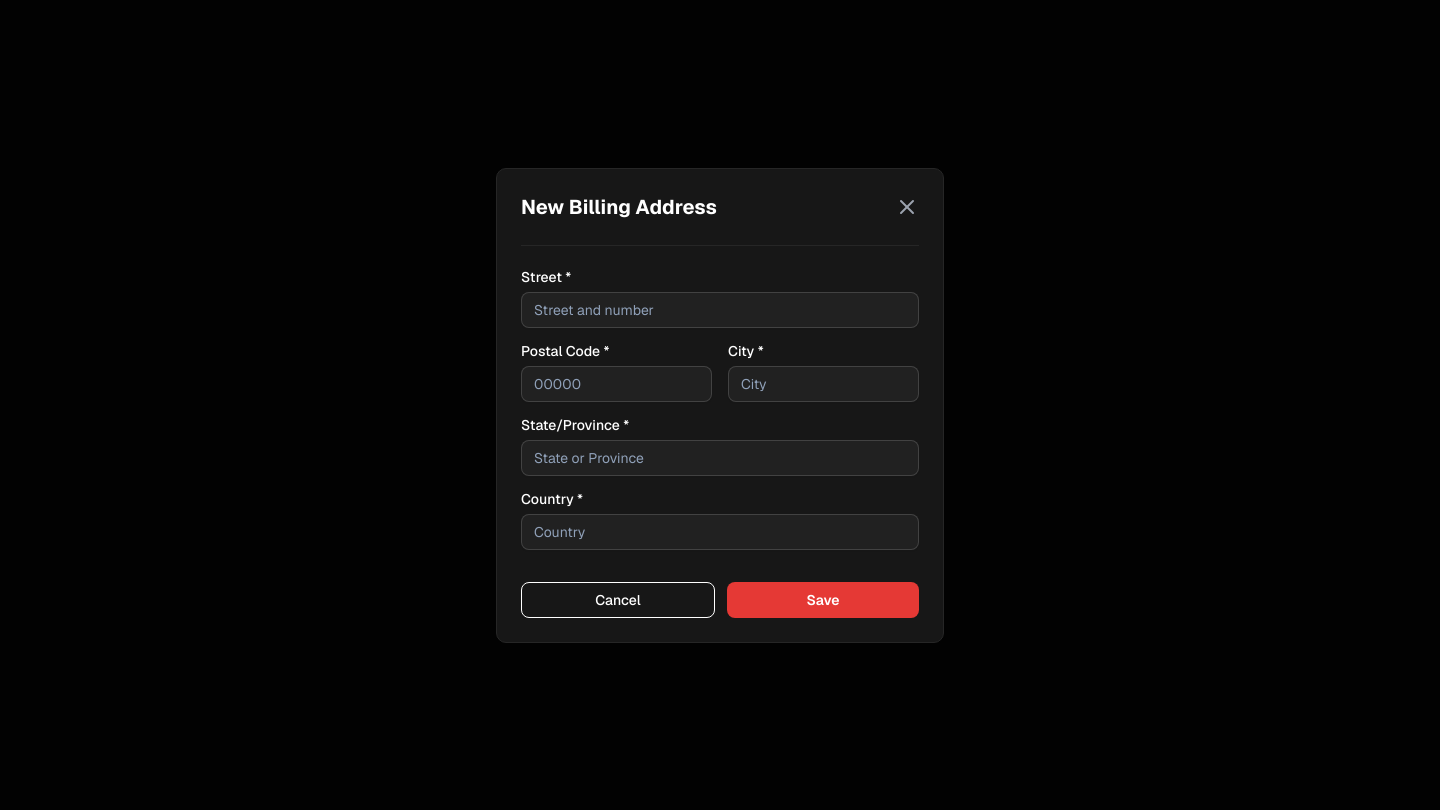
Test: AddBillingAddressModal › form submission - create mode › displays error message on submission failure
This screenshot has width=1440, height=810.
Type "Test Street" into the field labelled "Street *" at (720, 310), box [521,292,919,328]
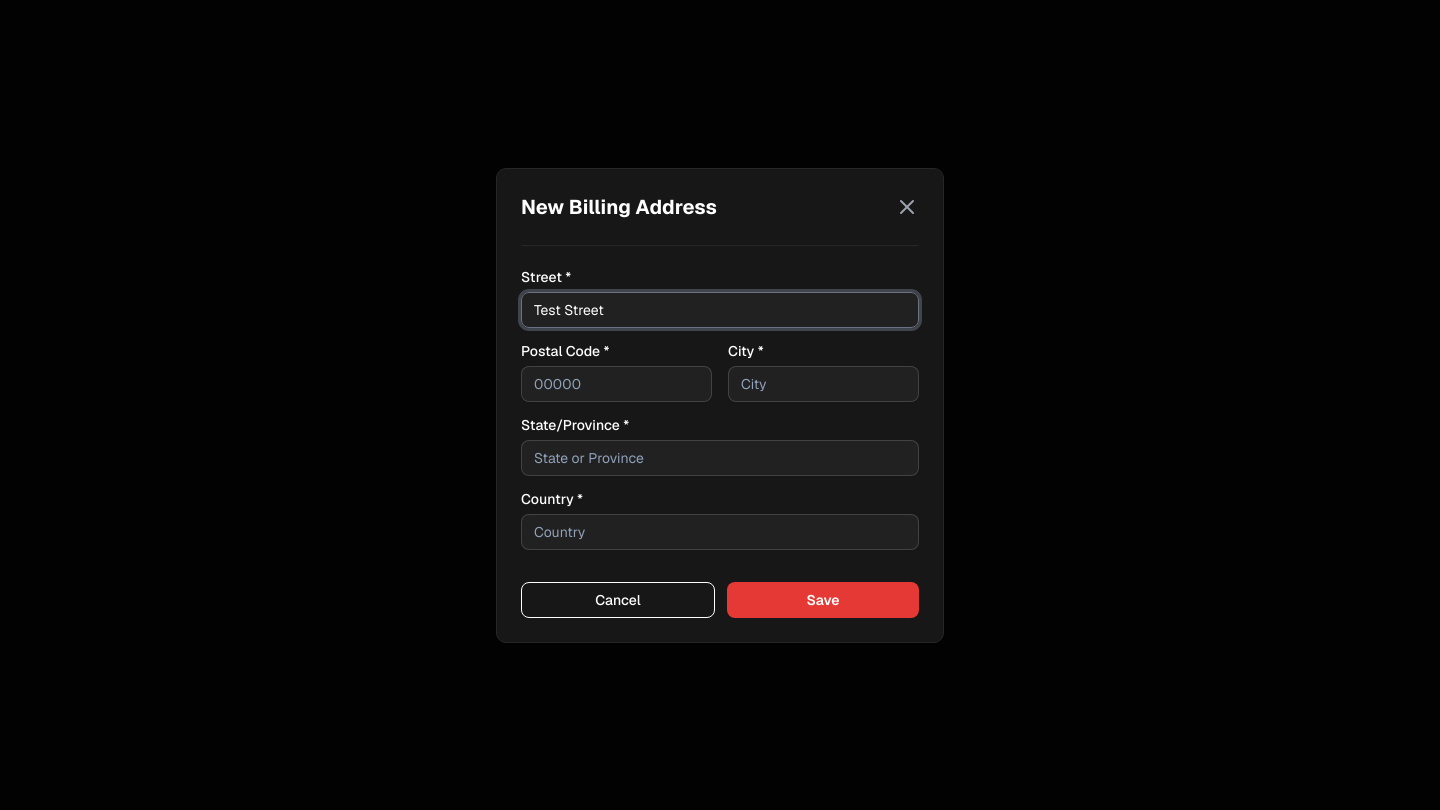
Type "Test City" into the field labelled "City *" at (824, 384), box [728,366,919,402]
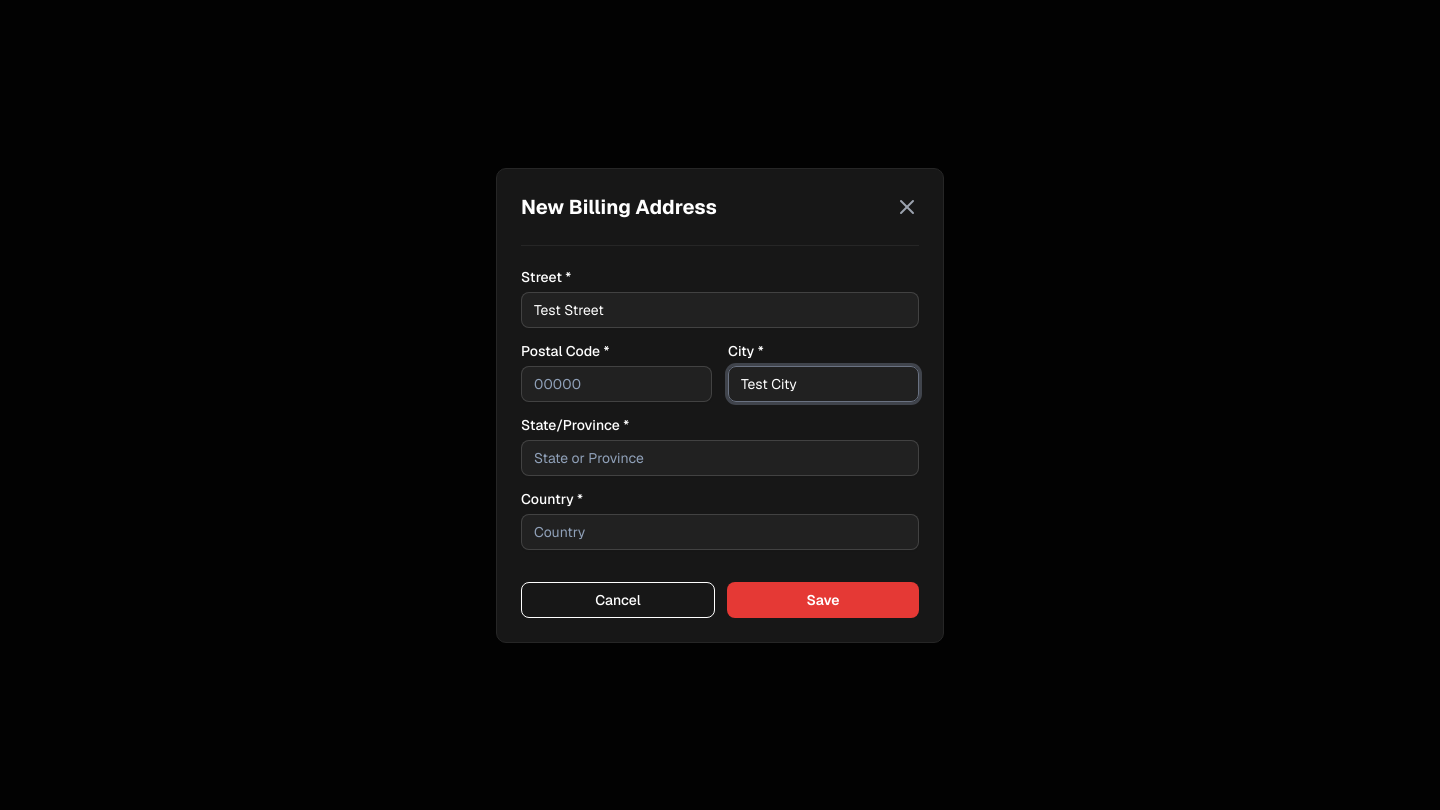
Type "Test State" into the field labelled "State/Province *" at (720, 458), box [521,440,919,476]
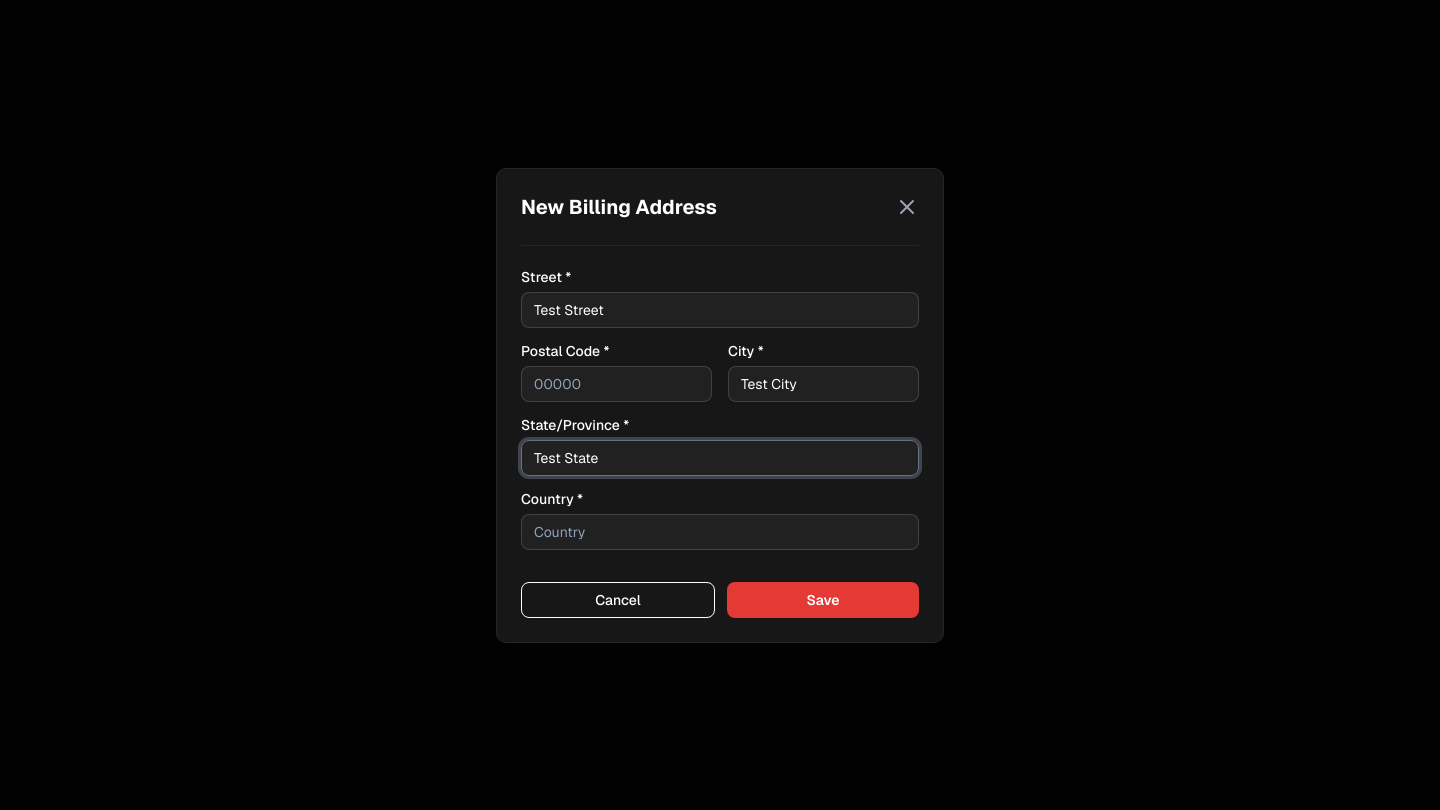
Type "12345" into the field labelled "Postal Code *" at (616, 384), box [521,366,712,402]
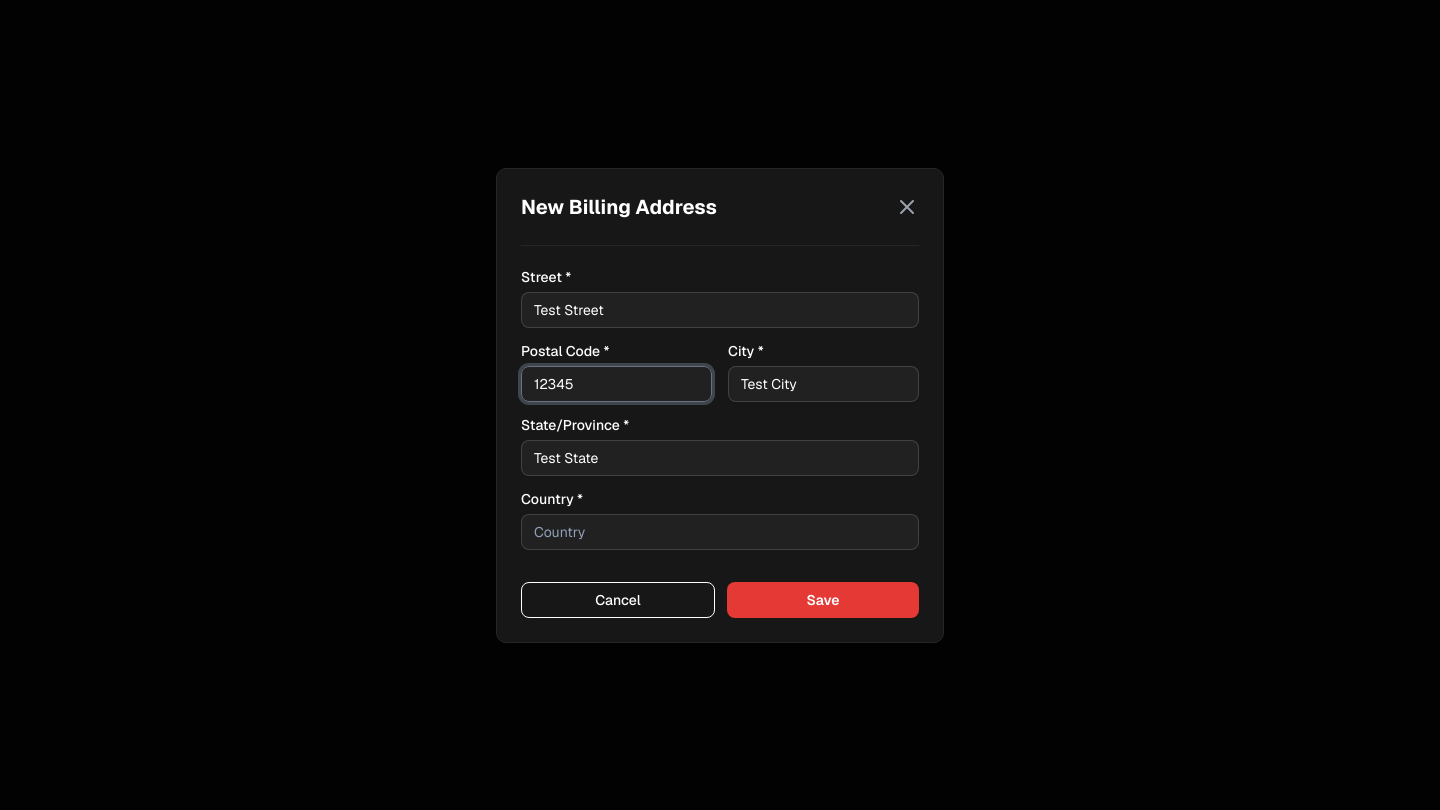
Type "Test Country" into the field labelled "Country *" at (720, 532), box [521,514,919,550]
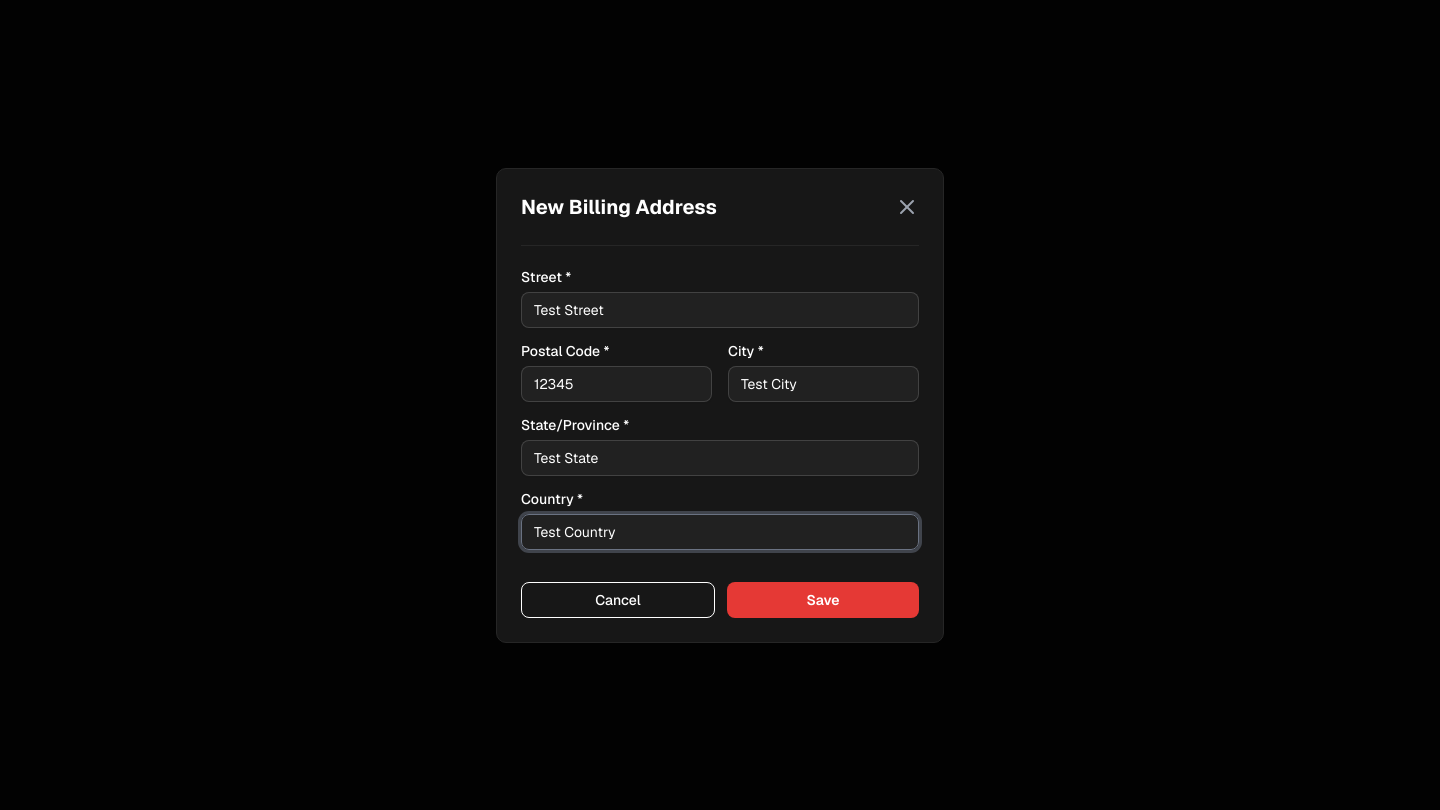
Click the button "Save" at (823, 600), box [727,582,919,618]
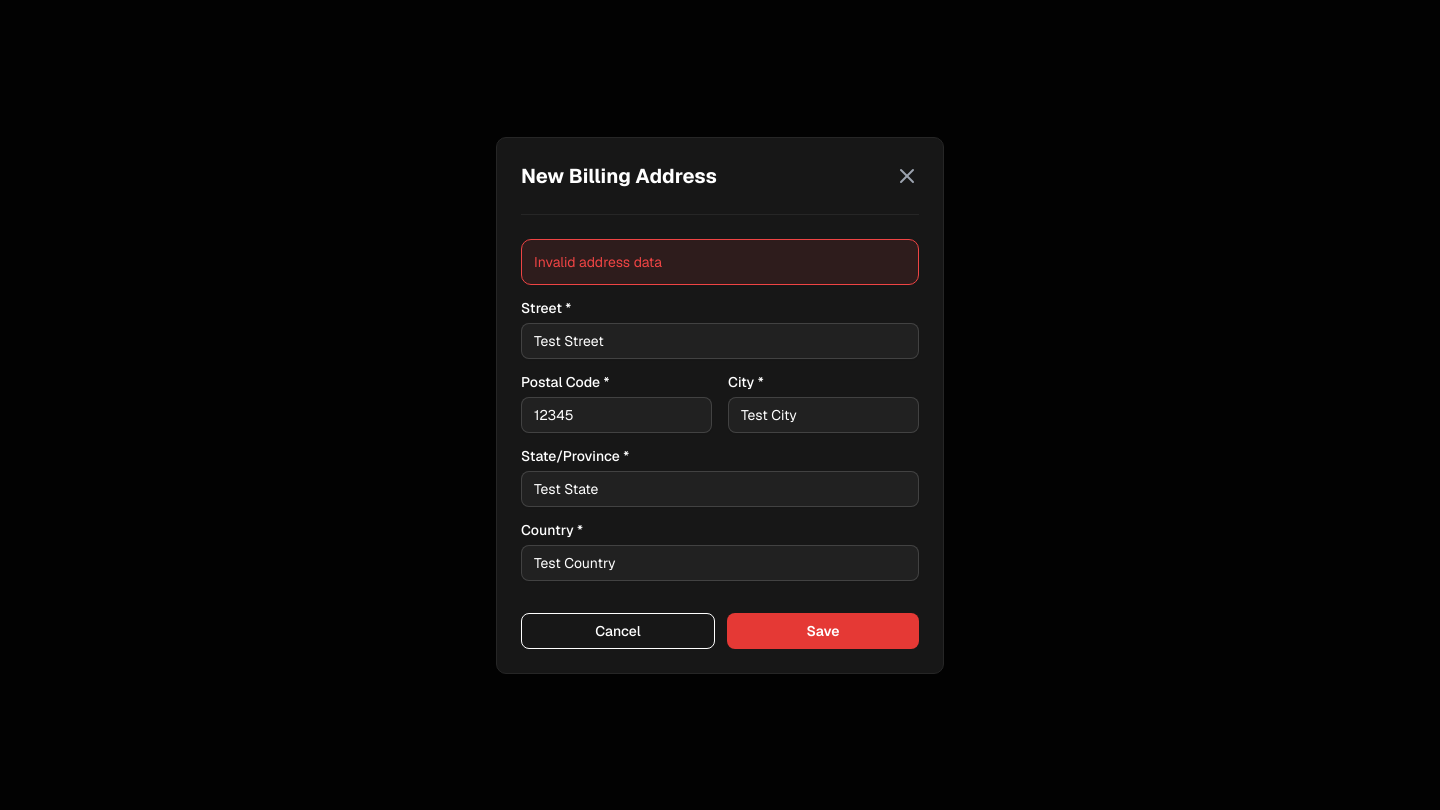
Expected: the text "Invalid address data" is shown, [521,238,919,284]
